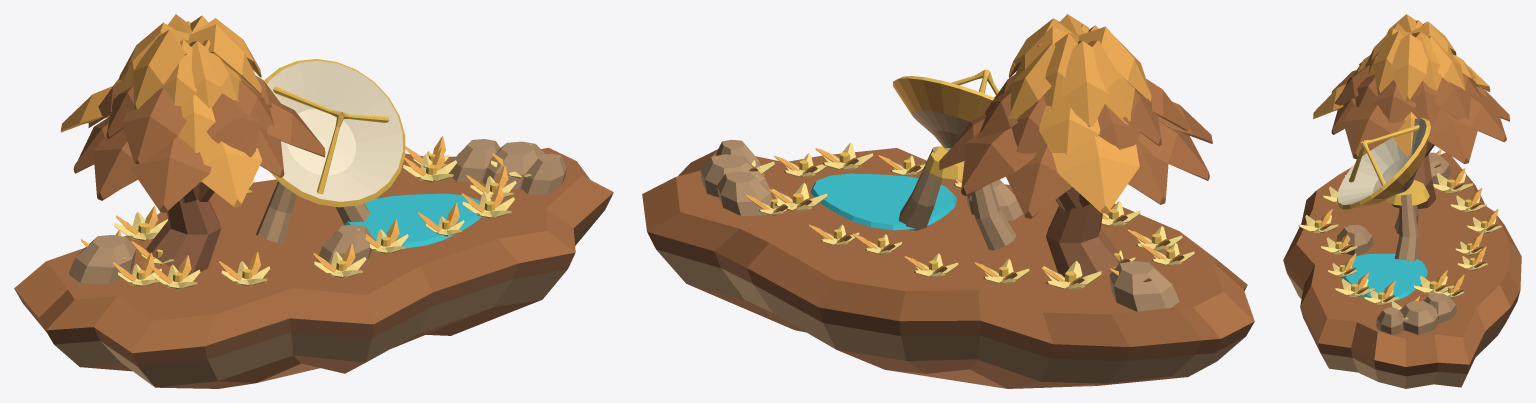
Rendered from orbital.glb.
The picture shows the model from 3 angles, left to right: view 1: azimuth 30°, elevation 25°; view 2: azimuth 150°, elevation 25°; view 3: azimuth 270°, elevation 25°; orthographic projection. The views are drawn at different scales.
Parts seen in each view (by area): view 1: terrace-orbital, tracking-dish; view 2: terrace-orbital, tracking-dish; view 3: terrace-orbital, tracking-dish.
Boxes of the visible parts, bbox=[...] form: terrace-orbital: bbox=[14, 14, 613, 388]; tracking-dish: bbox=[264, 59, 405, 207]; terrace-orbital: bbox=[642, 14, 1254, 388]; tracking-dish: bbox=[893, 69, 999, 150]; terrace-orbital: bbox=[1283, 14, 1521, 388]; tracking-dish: bbox=[1337, 118, 1430, 209].
Bounding box in the file's own units: 4.71 × 2.77 × 2.29.
